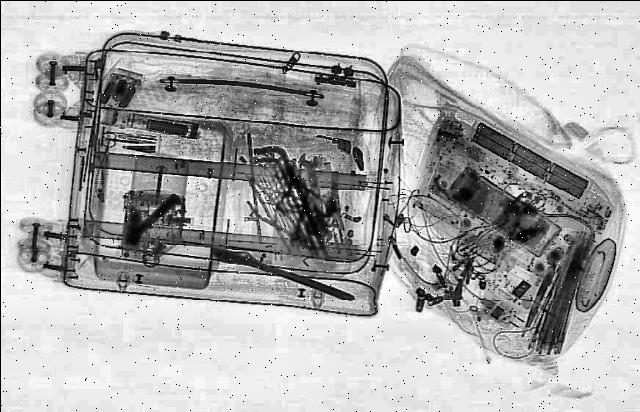Pliers: (244, 188, 330, 250)
Wrench: (202, 239, 364, 305), (297, 151, 331, 213)
